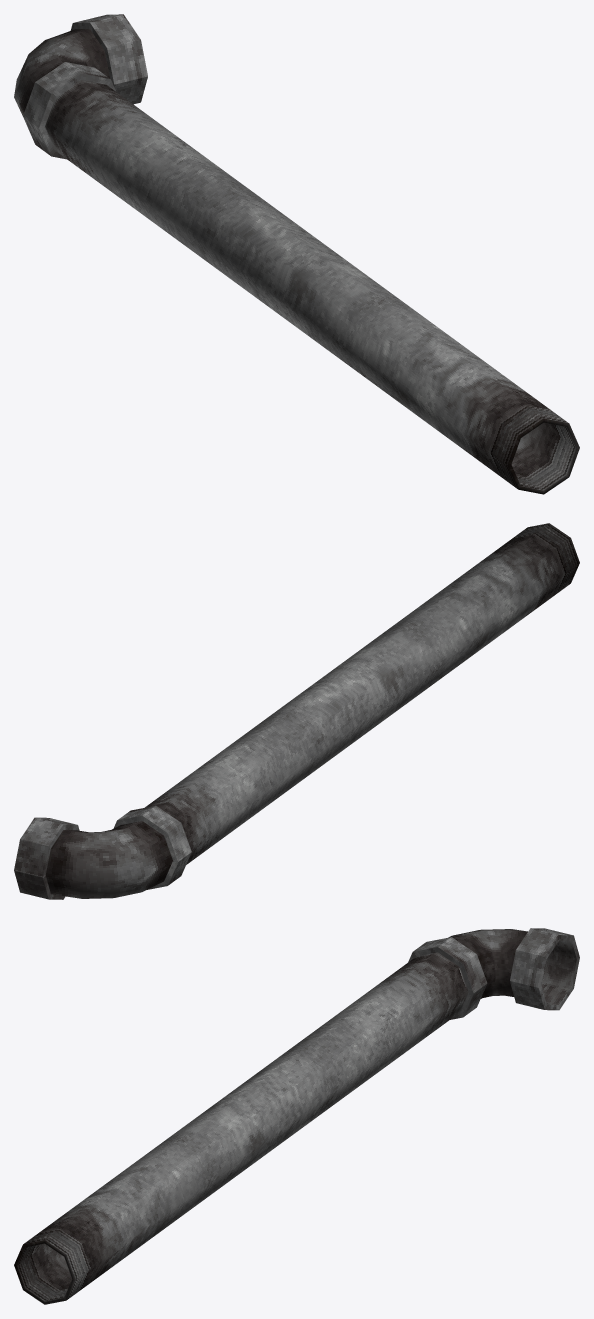
Rendered from cano.glb.
3 renders of one model, top to bottom at view 1: azimuth 30°, elevation 25°; view 2: azimuth 150°, elevation 25°; view 3: azimuth 330°, elevation 25°, orthographic. The views are drawn at different scales.
Visible parts, largest first — view 1: metal_pipe_obj; view 2: metal_pipe_obj; view 3: metal_pipe_obj.
Boxes of the visible parts, <box> form: metal_pipe_obj: <box>14,14,579,494</box>; metal_pipe_obj: <box>14,523,579,899</box>; metal_pipe_obj: <box>14,928,579,1304</box>.
Bounding box in the file's own units: 0.0806 × 0.0506 × 0.556.
Materials: 1 (1 with a texture image).
